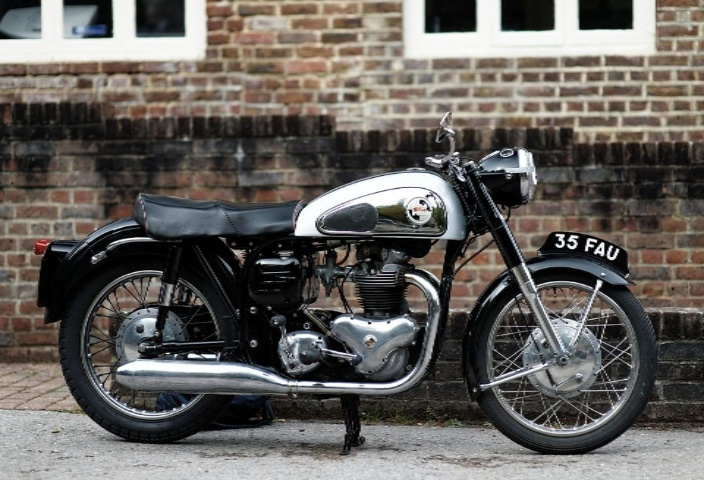motorcycle: (22, 121, 698, 476)
